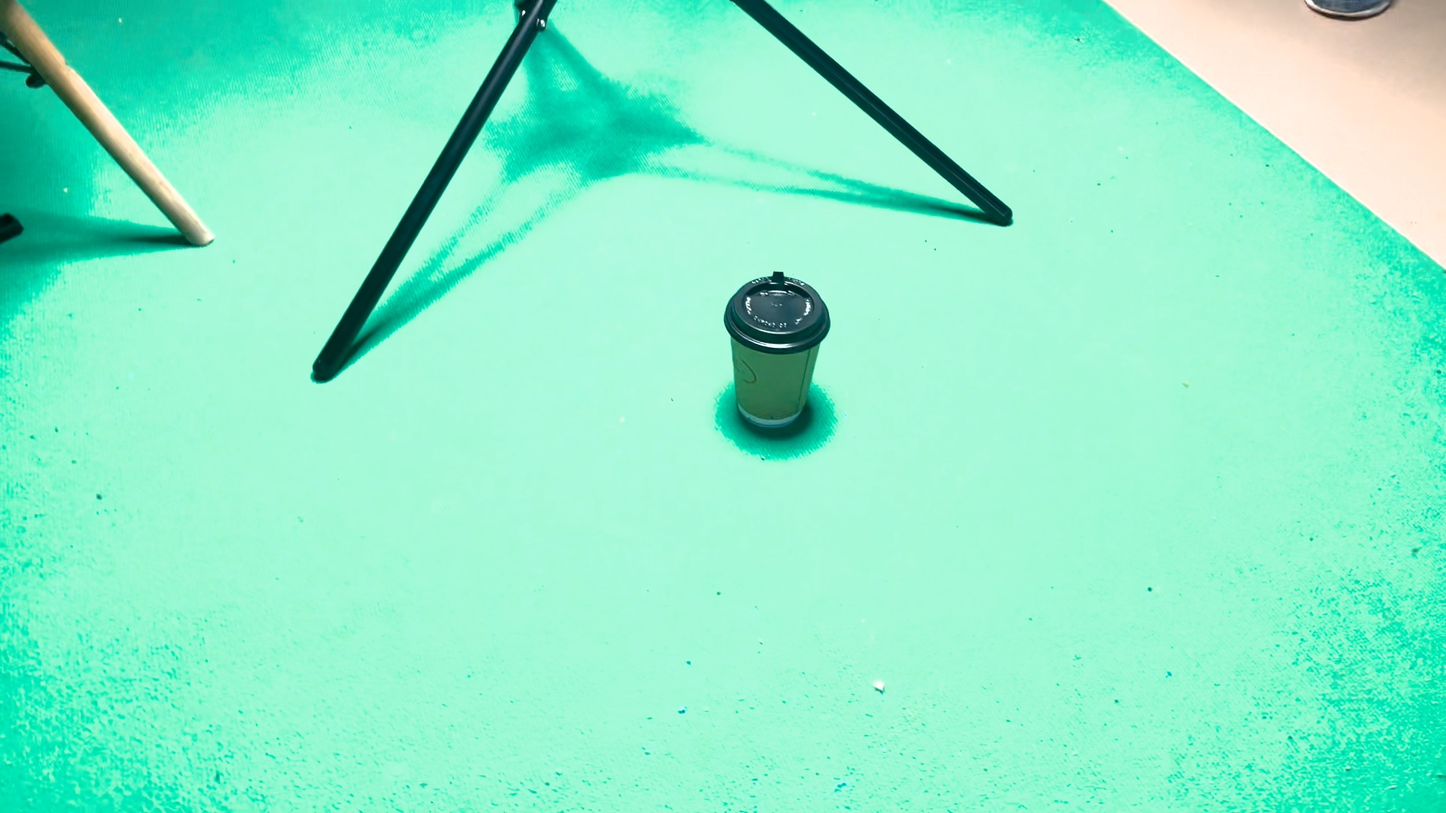cup: (745, 417, 837, 536)
